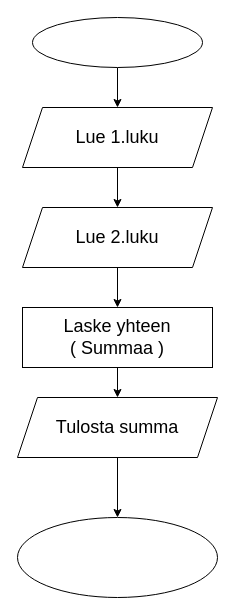
This 235x615 diagram has some shape labels left out. Here are the shapes that lost their labels. From the top down, the centre of each, then its label:
(x=117, y=42): Aloitus
(x=117, y=557): Loppu
